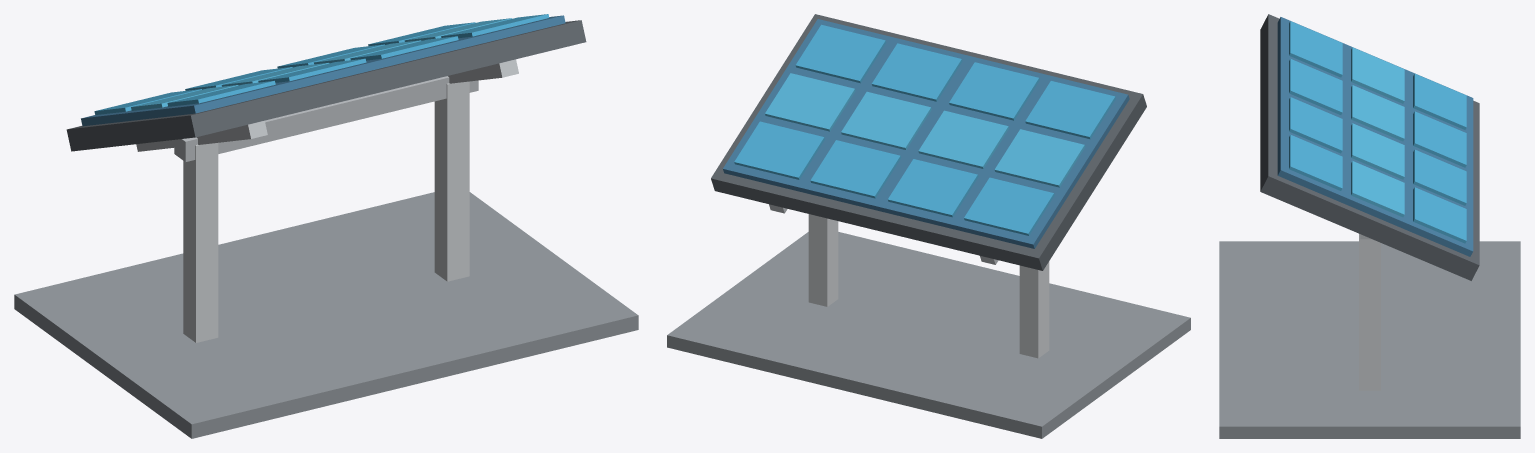
File: lab-b5.glb
3 renders of one model, left to right at view 1: azimuth 30°, elevation 25°; view 2: azimuth 150°, elevation 25°; view 3: azimuth 270°, elevation 25°, orthographic. The views are drawn at different scales.
Visible parts, largest first — view 1: base, panelFrame, leftPost, rightPost, crossBar, panelSurface, leftTiltRail, rightTiltRail, B5_box_17, B5_box_19, B5_box_18, B5_box_20; view 2: base, panelSurface, panelFrame, B5_box_11, B5_box_13, B5_box_14, B5_box_18, B5_box_10, B5_box_15, B5_box_9, B5_box_12, B5_box_17 (+5 smaller); view 3: base, panelSurface, panelFrame, rightPost, B5_box_9, B5_box_10, B5_box_11, B5_box_12, B5_box_13, B5_box_14, B5_box_16, B5_box_17 (+4 smaller).
Boxes of the visible parts, x1,y1,x2,y2 form: base: (14, 192, 638, 438); panelFrame: (66, 20, 586, 151); leftPost: (183, 143, 218, 342); rightPost: (434, 81, 469, 281); crossBar: (174, 76, 478, 162); panelSurface: (81, 15, 565, 126); leftTiltRail: (136, 120, 267, 151); rightTiltRail: (448, 59, 518, 83); B5_box_17: (167, 80, 275, 106); B5_box_19: (350, 36, 458, 60); B5_box_18: (258, 58, 366, 82); B5_box_20: (441, 14, 549, 38); base: (667, 232, 1190, 438); panelSurface: (723, 19, 1129, 248); panelFrame: (711, 14, 1146, 270); B5_box_11: (810, 140, 900, 198); B5_box_13: (994, 129, 1085, 187); B5_box_14: (918, 110, 1009, 168); B5_box_18: (949, 62, 1039, 120); B5_box_10: (887, 159, 978, 217); B5_box_15: (841, 91, 931, 149); B5_box_9: (964, 177, 1054, 235); B5_box_12: (734, 121, 824, 179); B5_box_17: (1025, 81, 1115, 138); base: (1219, 241, 1520, 438); panelSurface: (1277, 17, 1473, 256); panelFrame: (1260, 14, 1479, 280); rightPost: (1359, 234, 1380, 390); B5_box_9: (1413, 73, 1466, 129); B5_box_10: (1413, 111, 1466, 167); B5_box_11: (1413, 149, 1466, 205); B5_box_12: (1413, 187, 1466, 243); B5_box_13: (1351, 47, 1404, 103); B5_box_14: (1351, 85, 1404, 141); B5_box_16: (1351, 161, 1404, 217); B5_box_17: (1289, 21, 1342, 77).
Size of the model in its own units: 0.64 by 0.4073 by 0.44.
